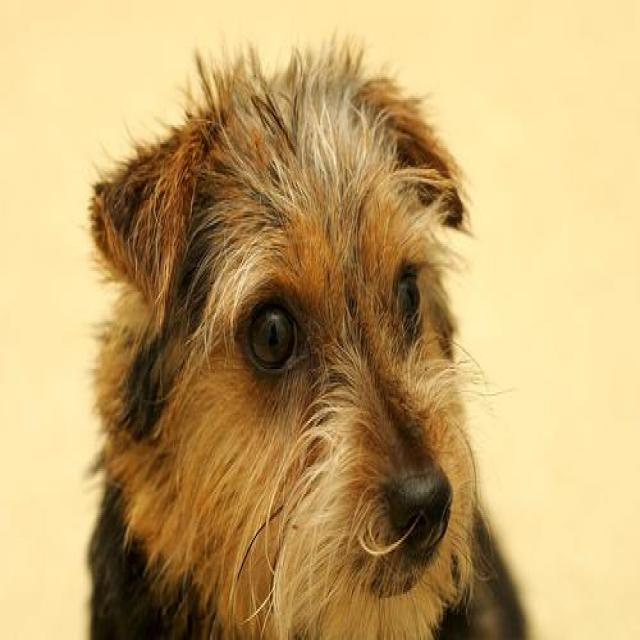dogs: (80, 28, 492, 605)
